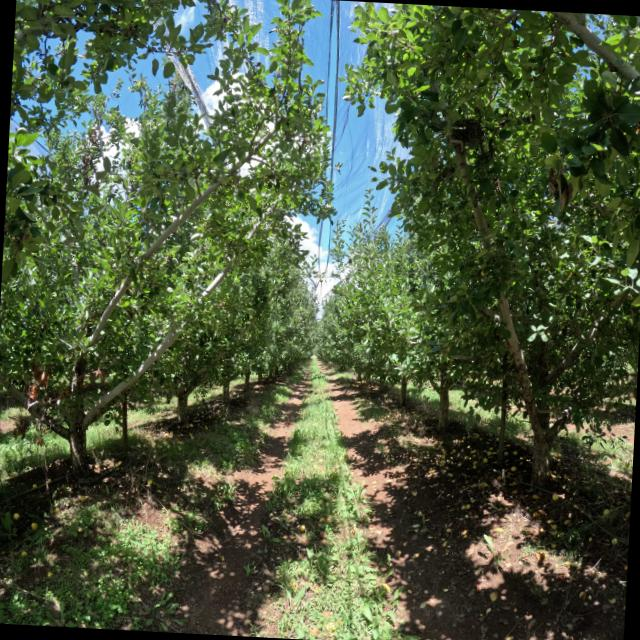-FireBlight-: (546, 168, 574, 214), (26, 360, 53, 407), (42, 381, 74, 409), (94, 368, 109, 384), (36, 437, 43, 447), (34, 420, 40, 431)
